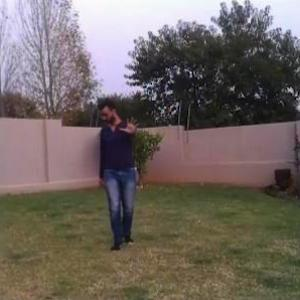follow_hand: (117, 111, 145, 136)
